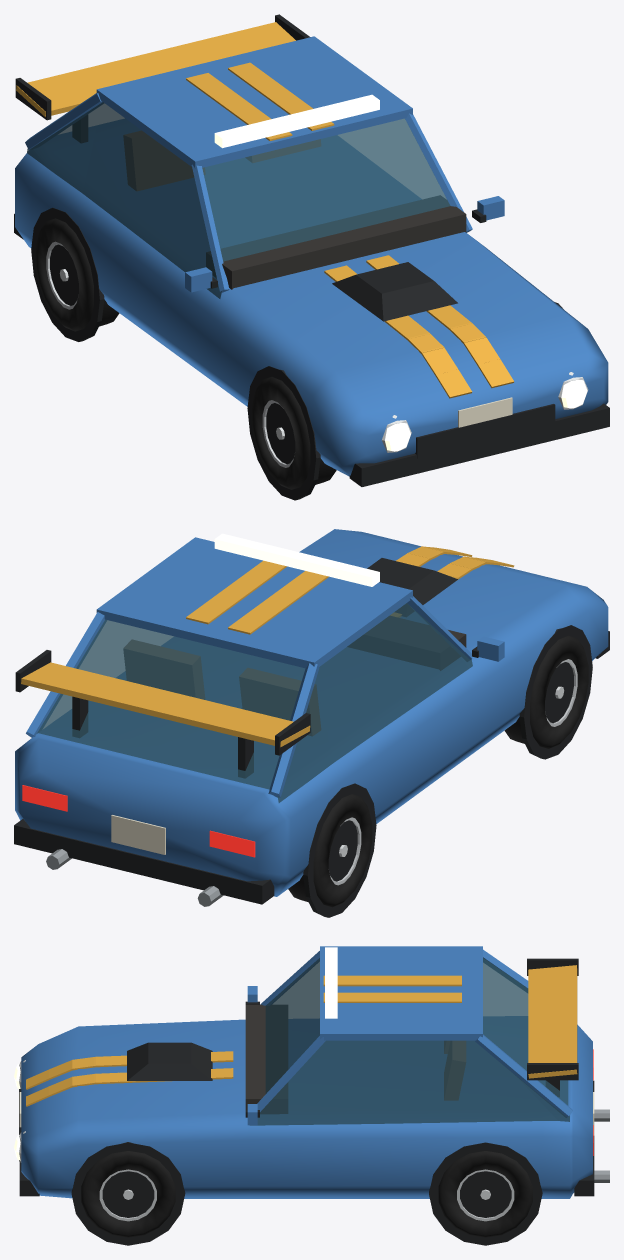
File: rally-fury.glb
The picture shows the model from 3 angles, top to bottom: view 1: azimuth 30°, elevation 25°; view 2: azimuth 150°, elevation 25°; view 3: azimuth 270°, elevation 25°; orthographic projection. The views are drawn at different scales.
Parts seen in each view (by area): view 1: body, wheel_FR, wheel_RR, plate_F, headlight_L, headlight_R; view 2: body, wheel_RR, wheel_FR, plate_R, taillight_R, taillight_L; view 3: body, wheel_RL, wheel_FL.
Boxes of the visible parts, x1=… form: body: x1=14, y1=14, x2=609, y2=500; wheel_FR: x1=251, y1=377, x2=336, y2=489; wheel_RR: x1=35, y1=218, x2=119, y2=331; plate_F: x1=458, y1=397, x2=512, y2=427; headlight_L: x1=558, y1=372, x2=588, y2=409; headlight_R: x1=382, y1=415, x2=411, y2=452; body: x1=14, y1=529, x2=609, y2=917; wheel_RR: x1=288, y1=794, x2=372, y2=907; wheel_FR: x1=504, y1=635, x2=588, y2=748; plate_R: x1=111, y1=815, x2=165, y2=854; taillight_R: x1=209, y1=830, x2=255, y2=857; taillight_L: x1=22, y1=785, x2=67, y2=811; body: x1=19, y1=946, x2=594, y2=1245; wheel_RL: x1=438, y1=1151, x2=532, y2=1237; wheel_FL: x1=81, y1=1151, x2=175, y2=1237.
Bounding box in the file's own units: 2.09 × 1.63 × 4.17.
